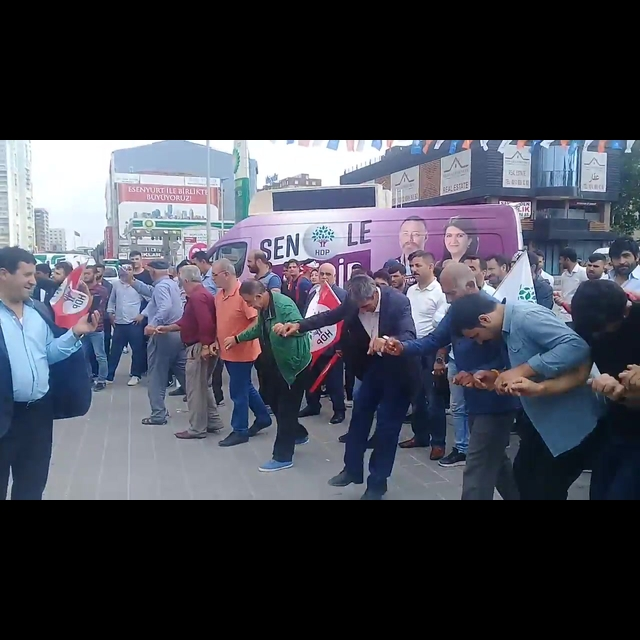HDP: (310, 221, 336, 247)
